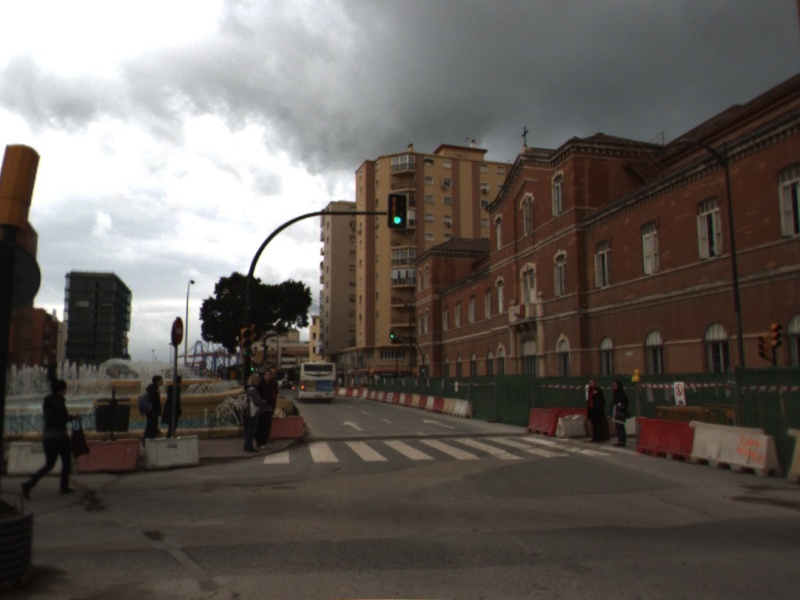STRAIGHT: (421, 417, 457, 431), (340, 418, 366, 433)
